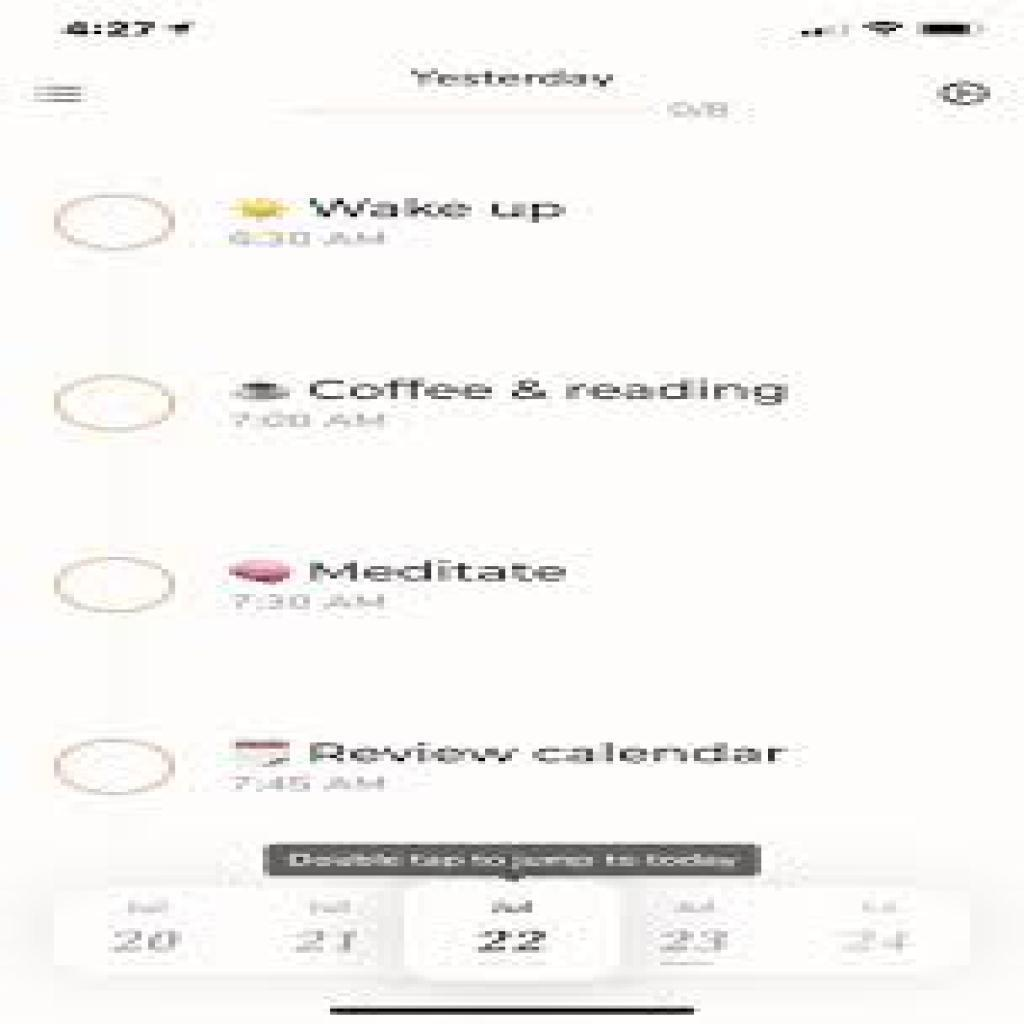radio: (52, 551, 178, 626), (52, 365, 176, 441), (52, 732, 184, 803), (56, 186, 177, 261)
